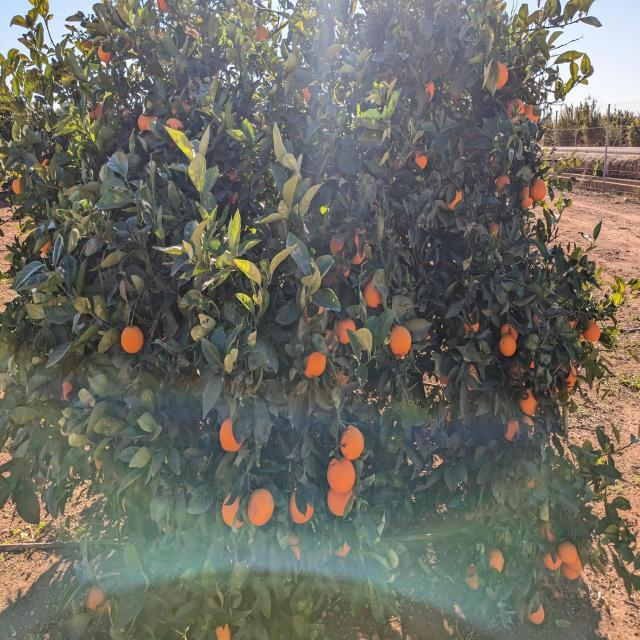Jeruk Sudah Matang: (327, 458, 356, 494), (247, 489, 275, 526), (340, 424, 366, 461), (288, 491, 314, 524), (220, 418, 243, 454), (222, 492, 245, 528), (326, 488, 354, 516), (390, 324, 412, 356), (304, 350, 328, 378), (122, 326, 144, 354), (520, 389, 540, 417), (335, 318, 356, 344), (364, 280, 382, 310), (166, 117, 184, 146), (558, 540, 578, 564), (86, 584, 106, 608), (506, 99, 526, 122), (498, 334, 518, 356), (416, 80, 434, 104), (352, 228, 368, 254), (488, 548, 504, 574), (286, 533, 302, 558), (582, 320, 600, 342), (466, 562, 480, 590), (541, 552, 563, 569), (330, 235, 346, 258), (504, 419, 520, 442), (496, 61, 508, 91), (520, 414, 535, 438), (527, 605, 545, 625), (530, 179, 546, 201), (446, 190, 462, 210), (501, 324, 518, 342), (138, 114, 157, 130), (98, 44, 114, 63), (566, 553, 582, 572), (464, 313, 479, 333), (562, 564, 580, 580), (414, 150, 428, 170), (519, 187, 533, 207), (496, 174, 510, 194), (90, 102, 104, 121), (524, 105, 538, 124), (336, 542, 350, 560), (255, 26, 268, 44), (62, 380, 73, 400), (348, 252, 366, 264), (467, 364, 479, 382), (40, 238, 53, 253), (564, 374, 574, 392), (12, 178, 22, 195), (156, 0, 168, 14), (489, 223, 499, 239), (568, 366, 578, 382), (511, 366, 524, 378), (304, 87, 312, 102), (440, 374, 450, 385), (82, 40, 91, 51)
